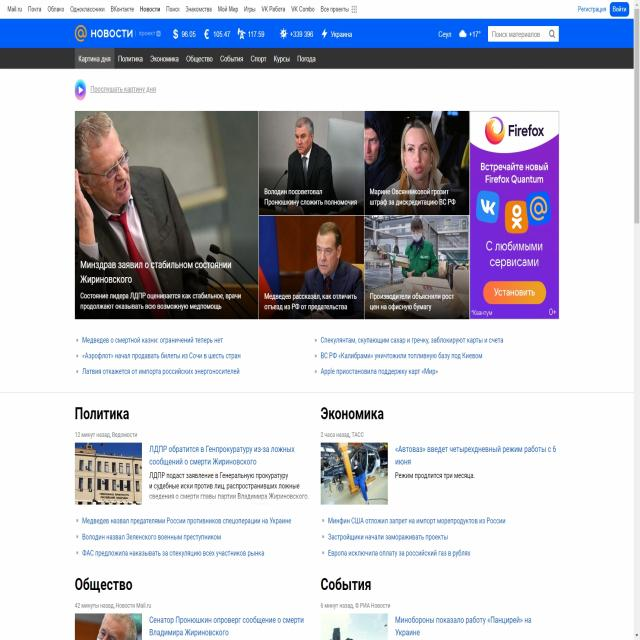menu-bar: (72, 45, 324, 69)
search: (485, 23, 560, 45)
